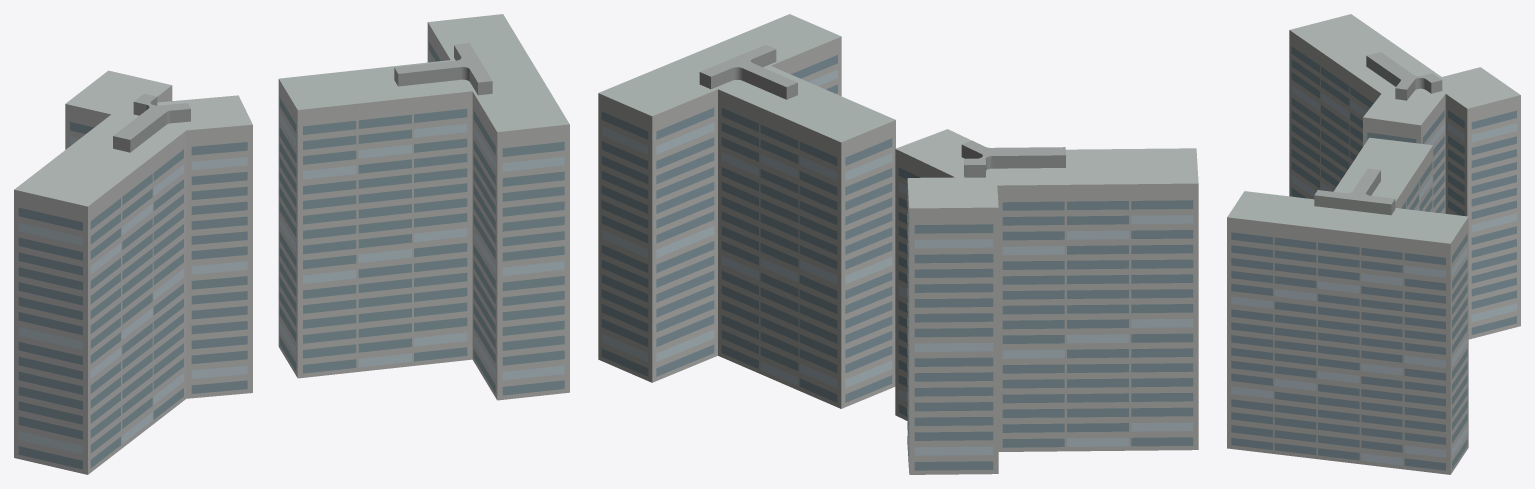
File: apt-a15603401.glb
The picture shows the model from 3 angles, left to right: view 1: azimuth 30°, elevation 25°; view 2: azimuth 150°, elevation 25°; view 3: azimuth 270°, elevation 25°; orthographic projection. The views are drawn at different scales.
Visible parts, largest first — view 1: apt-a15603401; view 2: apt-a15603401; view 3: apt-a15603401.
Boxes of the visible parts, bbox=[...] form: apt-a15603401: bbox=[14, 14, 569, 474]; apt-a15603401: bbox=[598, 14, 1198, 474]; apt-a15603401: bbox=[1227, 14, 1520, 474].
Size of the model in its own units: 97.74 by 48 by 52.8.
